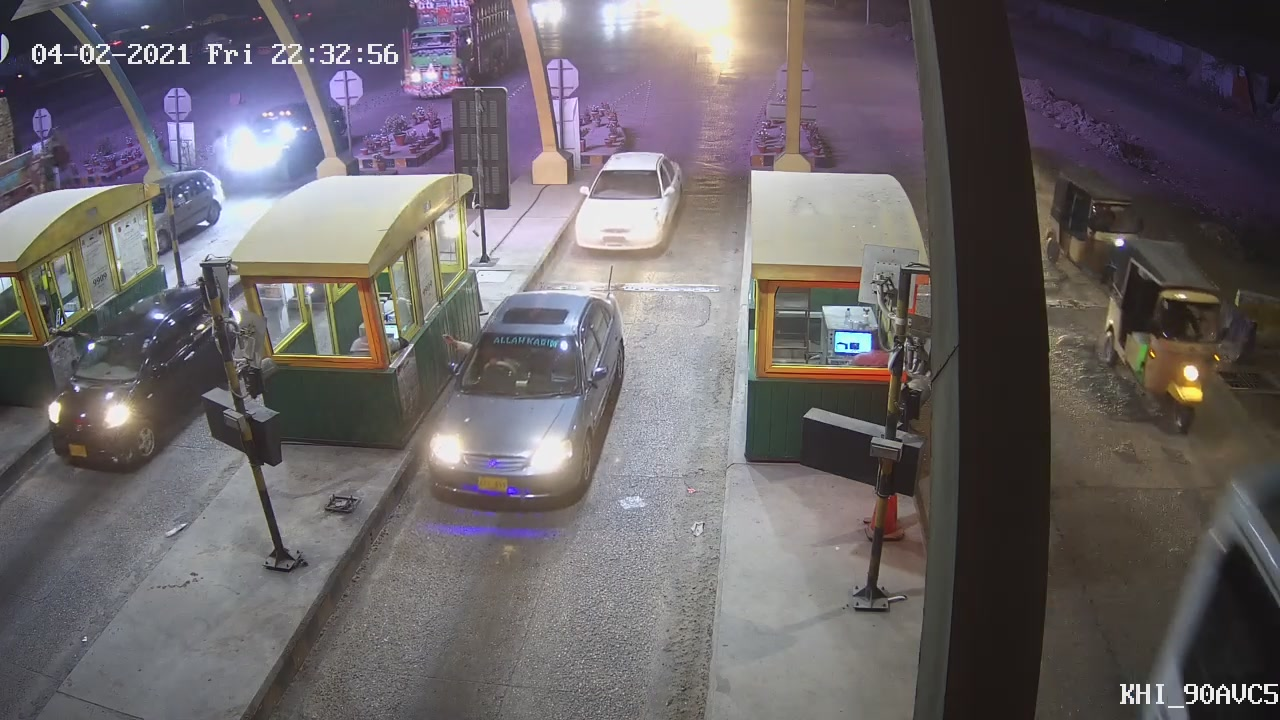F1: (420, 282, 622, 505), (570, 139, 688, 263)
